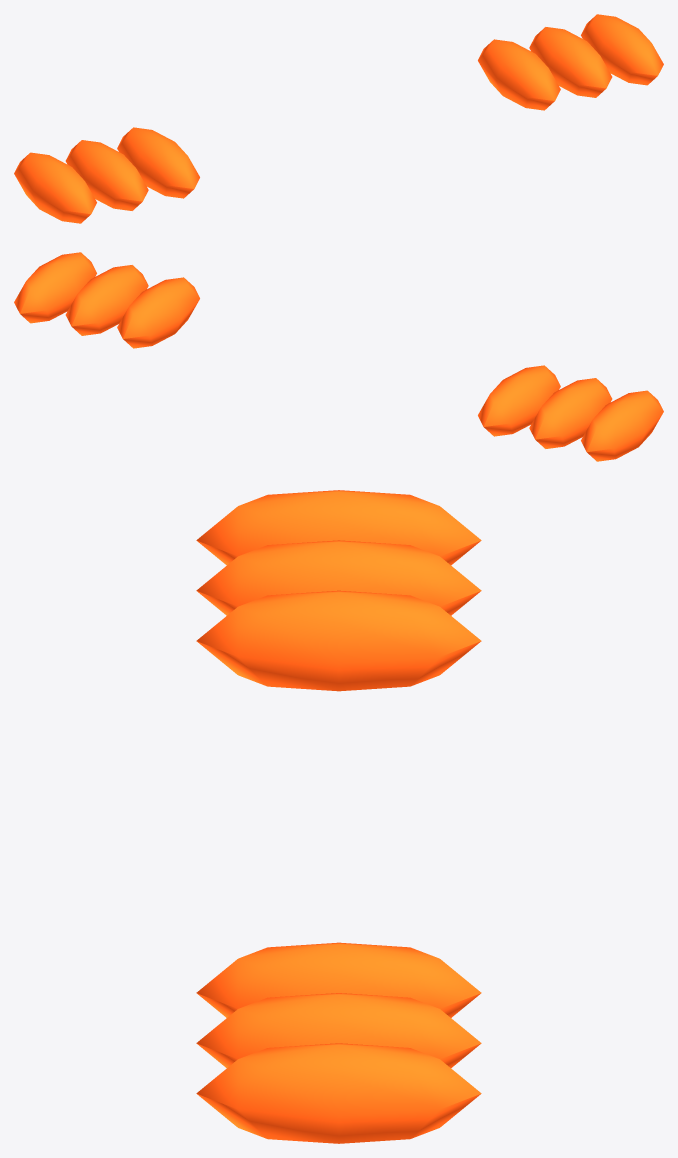
File: upgrade_explosive.glb
3 views of the same model, one above another, from view 1: azimuth 30°, elevation 25°; view 2: azimuth 150°, elevation 25°; view 3: azimuth 270°, elevation 25° (orthographic). The views are drawn at different scales.
Visible parts, largest first — view 1: MODULE // PLASMA CELLS; view 2: MODULE // PLASMA CELLS; view 3: MODULE // PLASMA CELLS.
Part boxes in pixels (x1,y1,x2,y2): MODULE // PLASMA CELLS: (14,14,663,223); MODULE // PLASMA CELLS: (14,252,663,461); MODULE // PLASMA CELLS: (196,490,481,1143).
Bounding box in the file's own units: 2.38 × 0.18 × 0.48.
